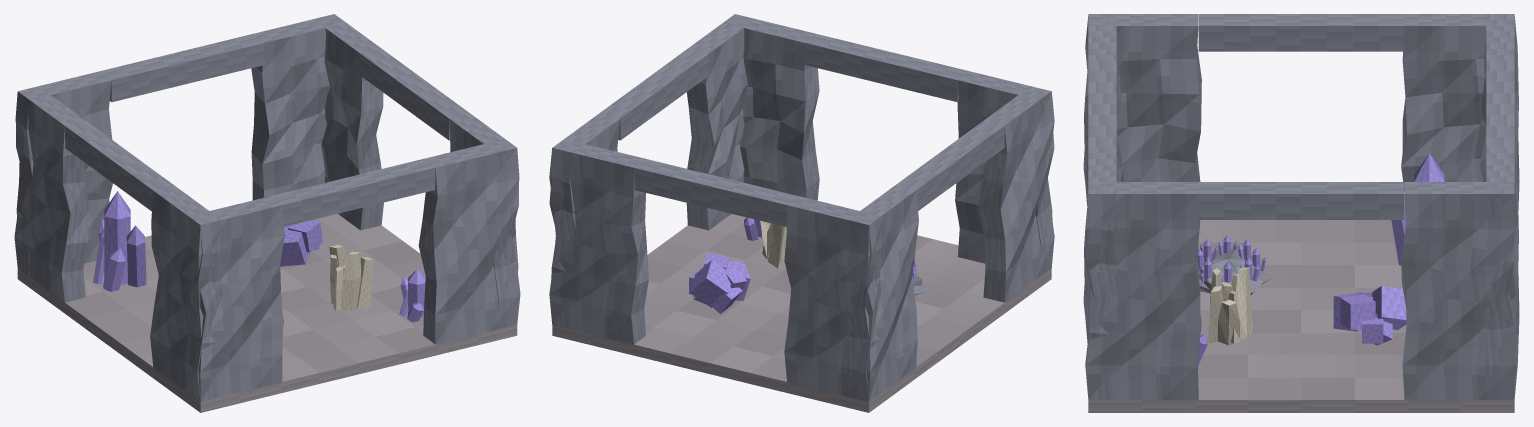
Rendered from cave-and-crystal-networks-crystal-chamber-scene-c931e8c6.glb.
3 views of the same model, side by side, from view 1: azimuth 30°, elevation 25°; view 2: azimuth 150°, elevation 25°; view 3: azimuth 270°, elevation 25° (orthographic). The views are drawn at different scales.
Visible parts, largest first — view 1: 000-crystal-chamber/0, 000-crystal-chamber/7, 000-crystal-chamber/8, 000-crystal-chamber/2, 000-crystal-chamber/5, 000-crystal-chamber/4, 000-crystal-chamber/10, 000-crystal-chamber/1, 000-crystal-chamber/3, 000-crystal-chamber/9, 000-crystal-chamber/12, 000-crystal-chamber/6 (+9 smaller); view 2: 000-crystal-chamber/0, 000-crystal-chamber/2, 000-crystal-chamber/1, 000-crystal-chamber/7, 000-crystal-chamber/4, 000-crystal-chamber/5, 000-crystal-chamber/11, 000-crystal-chamber/8, 000-crystal-chamber/9, 000-crystal-chamber/3, 000-crystal-chamber/12, 000-crystal-chamber/6 (+2 smaller); view 3: 000-crystal-chamber/0, 000-crystal-chamber/11, 000-crystal-chamber/10, 000-crystal-chamber/4, 000-crystal-chamber/5, 000-crystal-chamber/6, 000-crystal-chamber/12, 000-crystal-chamber/2, 000-crystal-chamber/7, 000-crystal-chamber/1, 000-crystal-chamber/3, 000-crystal-chamber/9 (+10 smaller).
Part boxes in pixels (x1,y1,x2,y2): 000-crystal-chamber/0: [17, 214, 517, 412]; 000-crystal-chamber/7: [418, 139, 519, 344]; 000-crystal-chamber/8: [187, 196, 284, 400]; 000-crystal-chamber/2: [251, 14, 345, 200]; 000-crystal-chamber/5: [14, 86, 89, 302]; 000-crystal-chamber/4: [150, 185, 222, 401]; 000-crystal-chamber/10: [314, 15, 383, 230]; 000-crystal-chamber/1: [15, 71, 112, 276]; 000-crystal-chamber/3: [100, 34, 264, 102]; 000-crystal-chamber/9: [270, 159, 435, 226]; 000-crystal-chamber/12: [360, 48, 469, 140]; 000-crystal-chamber/6: [65, 121, 173, 211]; 000-crystal-chamber/0: [552, 214, 1051, 412]; 000-crystal-chamber/2: [549, 139, 648, 344]; 000-crystal-chamber/1: [784, 196, 881, 401]; 000-crystal-chamber/7: [723, 14, 819, 200]; 000-crystal-chamber/4: [977, 86, 1054, 302]; 000-crystal-chamber/5: [845, 185, 918, 400]; 000-crystal-chamber/11: [686, 14, 755, 230]; 000-crystal-chamber/8: [955, 71, 1054, 263]; 000-crystal-chamber/9: [804, 34, 969, 102]; 000-crystal-chamber/3: [634, 159, 798, 226]; 000-crystal-chamber/12: [600, 48, 708, 140]; 000-crystal-chamber/6: [895, 120, 1004, 210]; 000-crystal-chamber/0: [1088, 220, 1514, 412]; 000-crystal-chamber/11: [1085, 182, 1201, 399]; 000-crystal-chamber/10: [1401, 182, 1517, 399]; 000-crystal-chamber/4: [1086, 14, 1201, 181]; 000-crystal-chamber/5: [1401, 14, 1514, 191]; 000-crystal-chamber/6: [1198, 14, 1404, 51]; 000-crystal-chamber/12: [1198, 182, 1404, 219]; 000-crystal-chamber/2: [1482, 147, 1519, 397]; 000-crystal-chamber/7: [1083, 147, 1119, 399]; 000-crystal-chamber/1: [1480, 14, 1519, 210]; 000-crystal-chamber/3: [1486, 60, 1514, 147]; 000-crystal-chamber/9: [1088, 60, 1116, 147].
Bounding box in the file's own units: 6.14 × 3.4 × 6.14.
4 materials, 4 textured.
